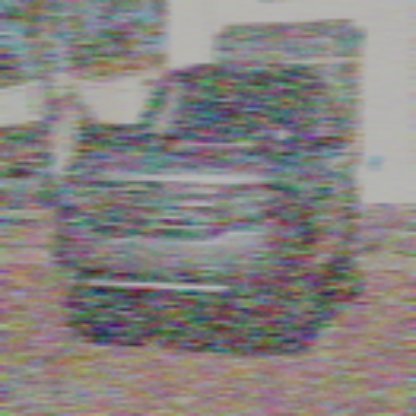Vehicle: (52, 59, 361, 353)
